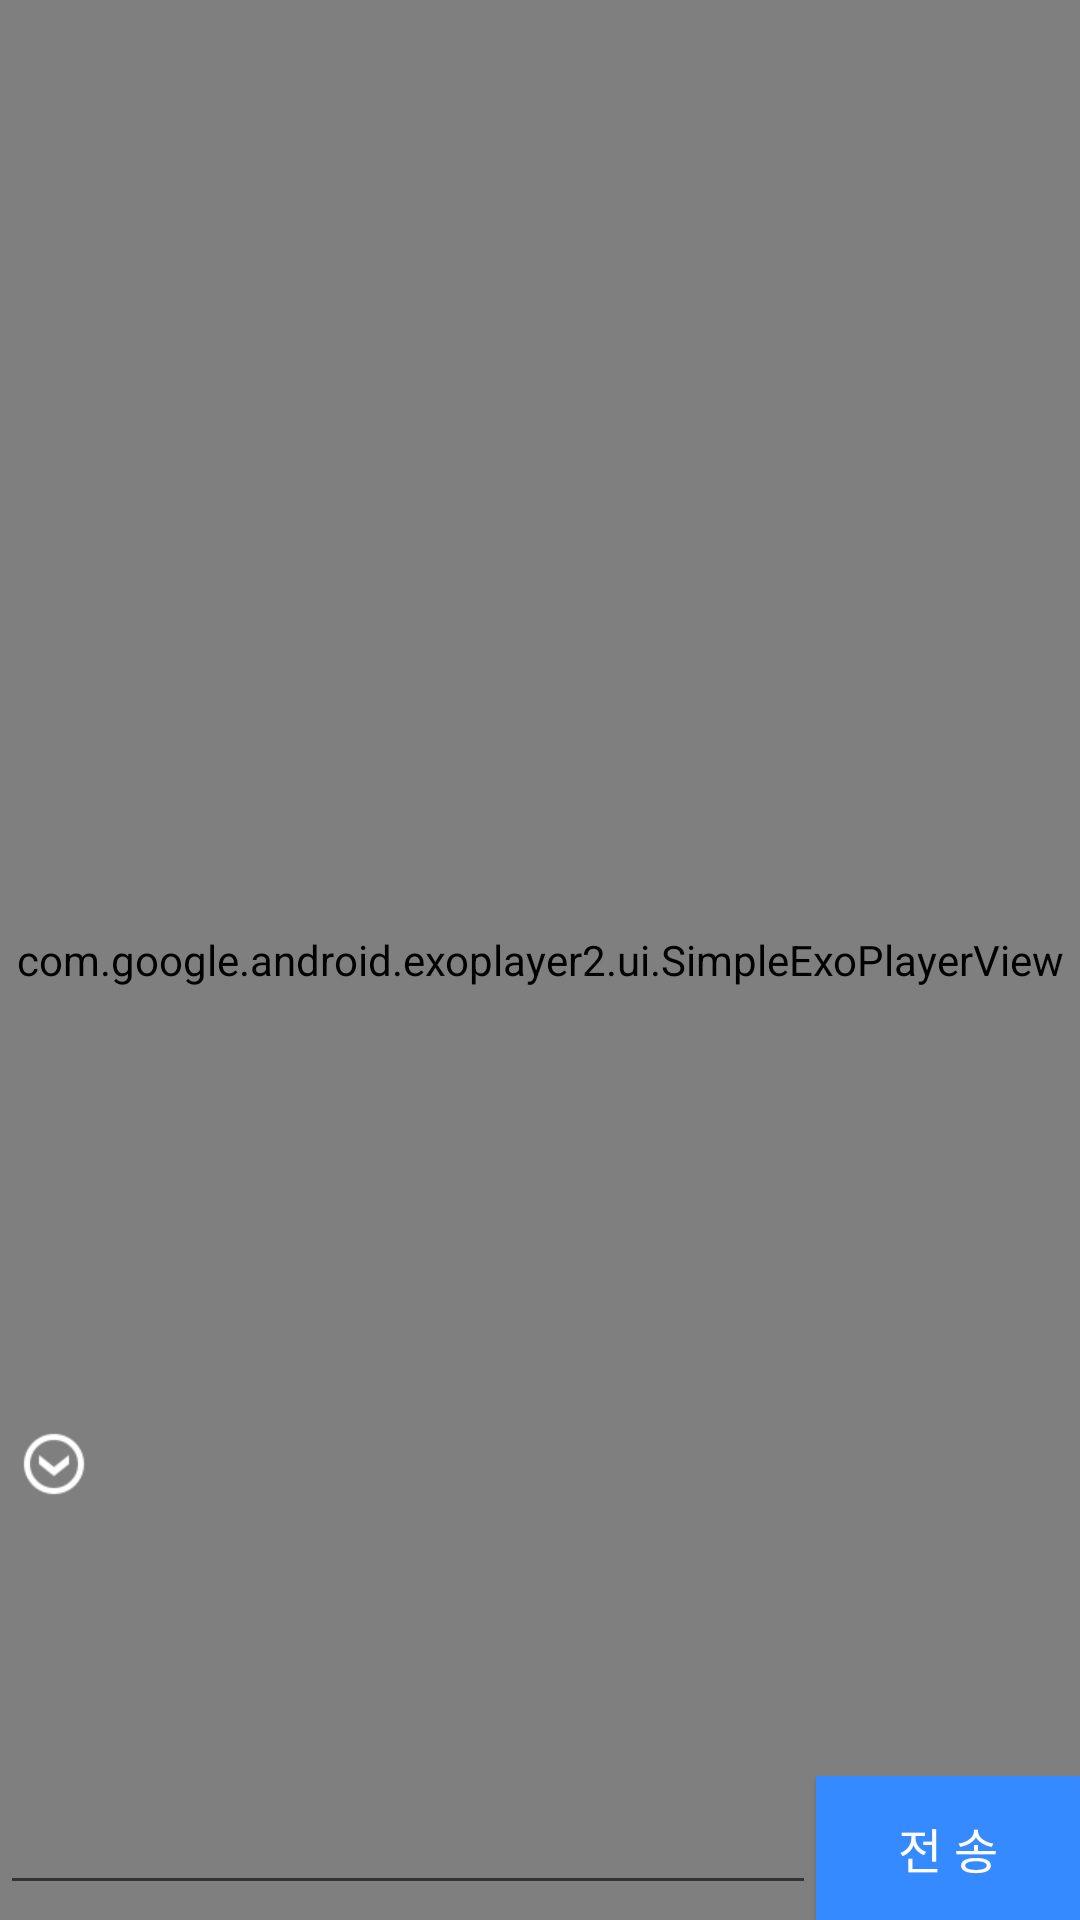

Icon click points for this 1080*1920 phone screenshot, format [x,y]:
chevron down: [54,1464]
